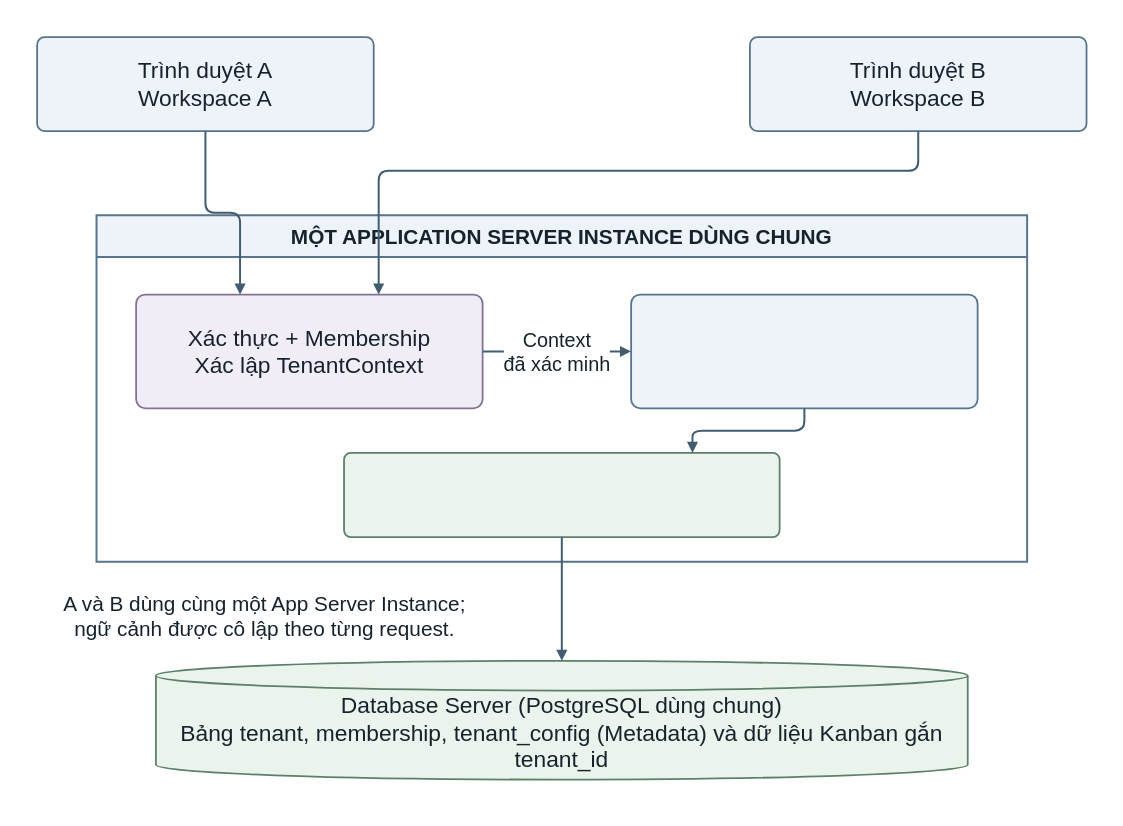
The diagram is 1123 pixels wide and 826 high, and some of its shapes have lost their labels. Here are the shapes that lost their labels. From the top down, the box of each, then its label:
(630, 293, 978, 409): Nghiệp vụ Kanban Áp dụng Metadata runtime
(343, 452, 780, 537): Truy cập dữ liệu theo tenant Transaction + SET LOCAL + RLS
